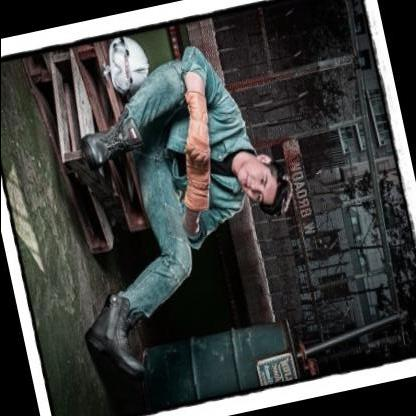safety-shoe: (56, 275, 153, 398), (55, 96, 137, 183)
